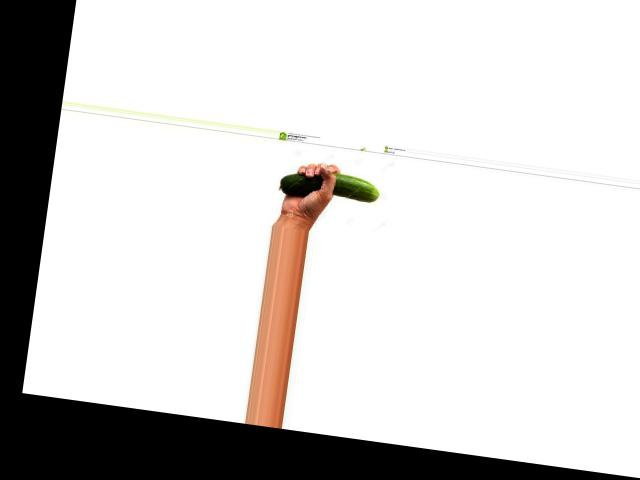cucumber: (280, 165, 381, 206)
